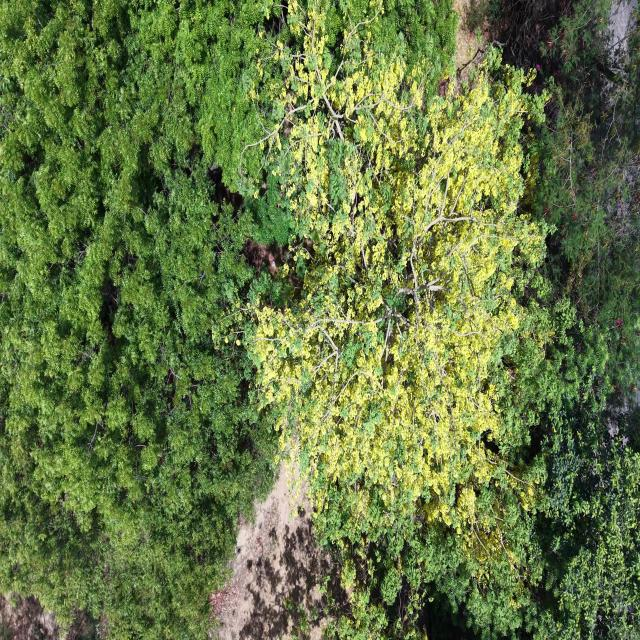DRY_AREA: (210, 465, 336, 639), (211, 466, 337, 639), (212, 466, 337, 639), (212, 465, 332, 639), (453, 0, 491, 86), (0, 594, 60, 639), (0, 595, 59, 639), (609, 0, 639, 67), (609, 0, 638, 56)
VEGETATION_TREE: (0, 0, 639, 639), (250, 3, 639, 637), (0, 0, 297, 638), (247, 11, 544, 637), (0, 2, 274, 638), (533, 2, 639, 638)
